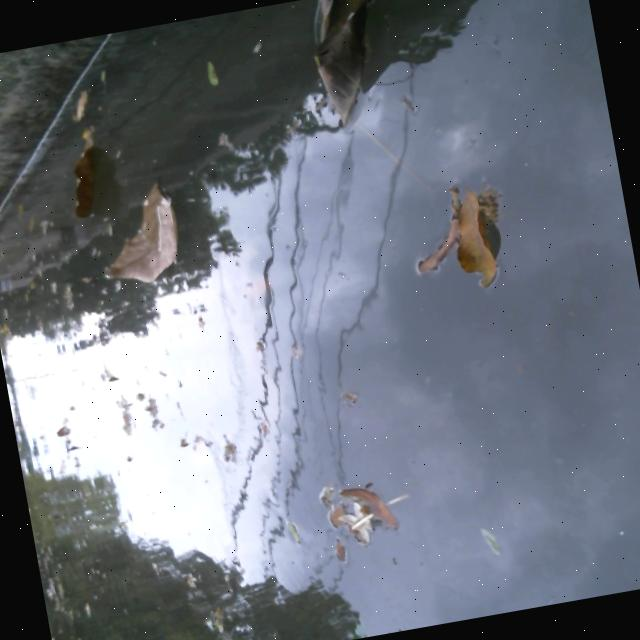Big-leaf: (288, 0, 417, 131), (89, 177, 196, 294), (56, 125, 115, 222)
Small-leaf: (446, 191, 512, 290), (344, 476, 394, 530), (65, 86, 97, 120), (323, 499, 354, 534), (193, 55, 222, 90), (335, 381, 368, 411), (474, 525, 501, 558), (281, 513, 306, 548), (51, 421, 78, 452), (217, 430, 241, 462), (331, 539, 347, 566)
